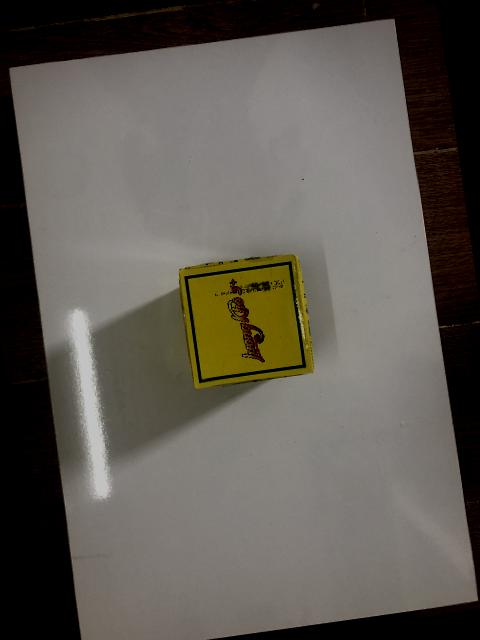luong_kho: (179, 254, 315, 391)
